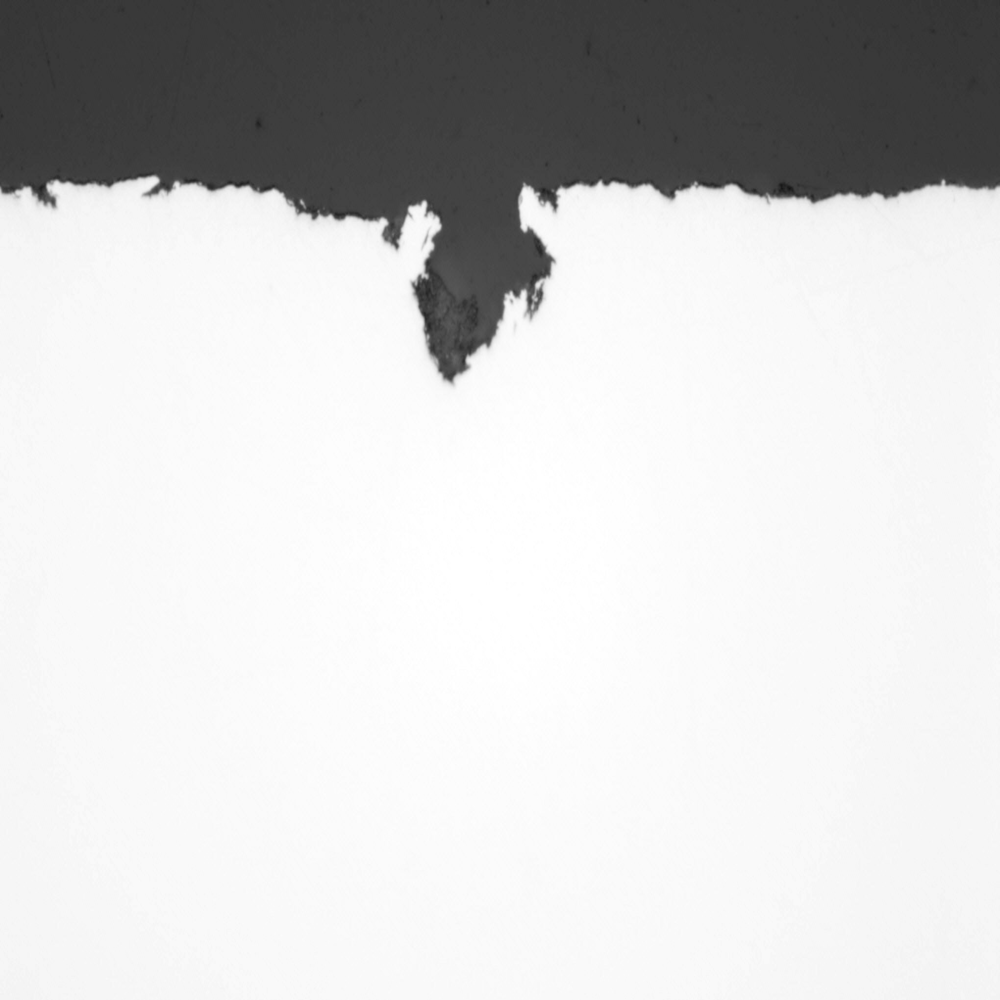crack: (368, 171, 567, 400)
